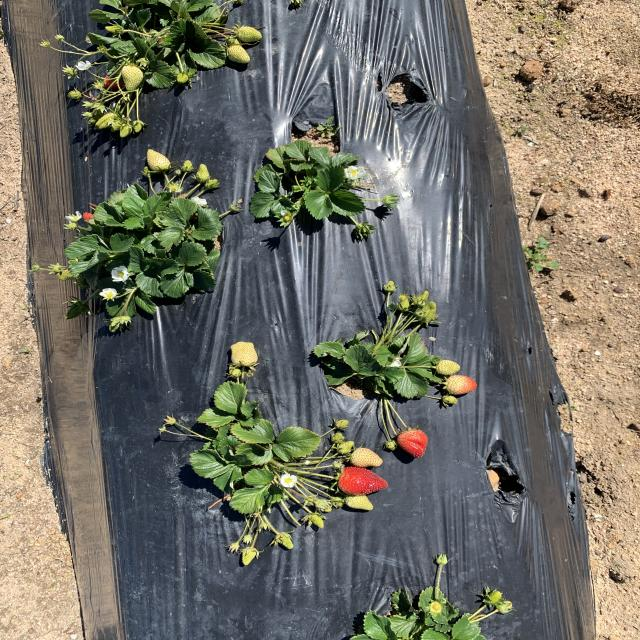unripe: (338, 468, 391, 495), (398, 430, 427, 457), (103, 72, 127, 90)
